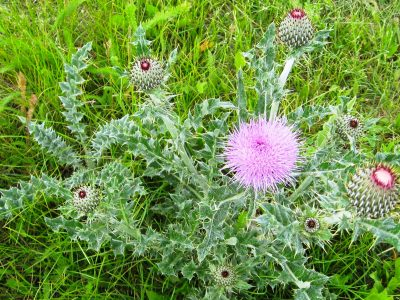bull thistle: (217, 111, 303, 199), (337, 158, 400, 236), (276, 7, 315, 50), (127, 53, 167, 94), (67, 182, 105, 218), (333, 111, 364, 148), (213, 264, 238, 287), (303, 216, 320, 234)
